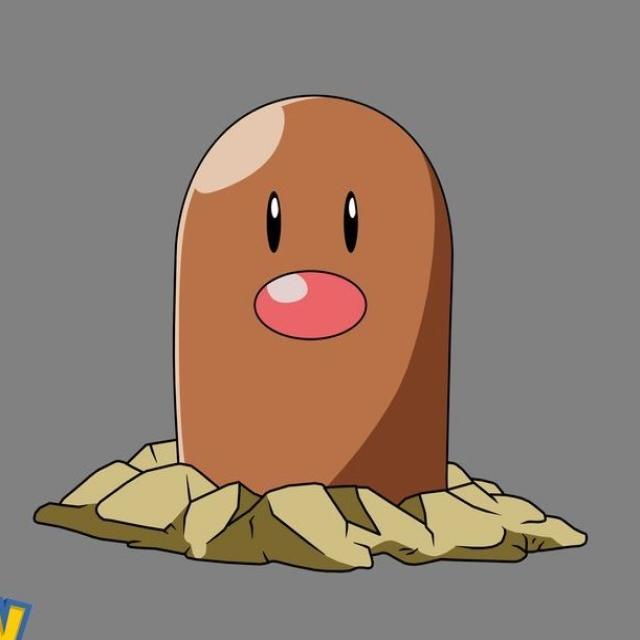Diglett: (170, 96, 456, 500)
